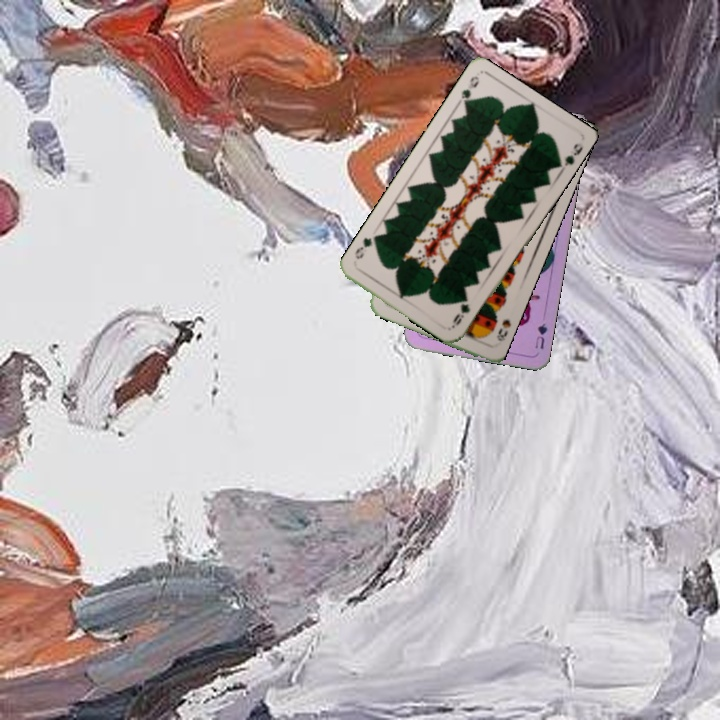G9: (453, 72, 482, 110), (448, 294, 472, 329)
GU: (531, 319, 550, 352)
S8: (492, 315, 514, 344)
